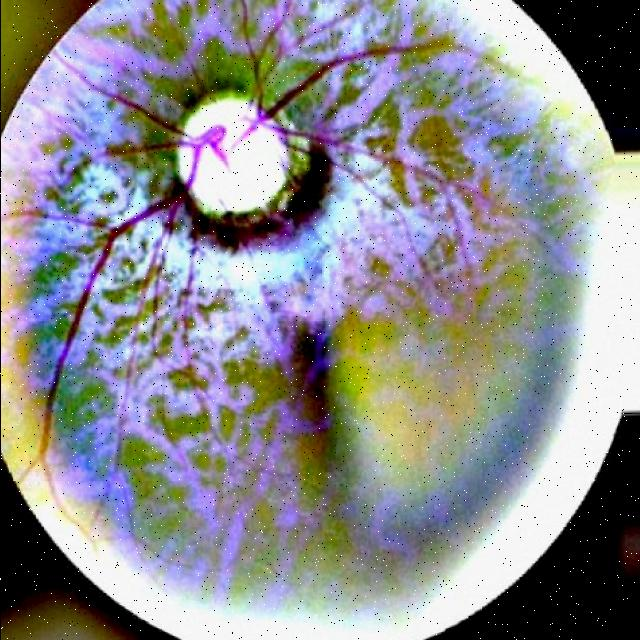Macula: (278, 316, 342, 444)
Nerves: (60, 74, 222, 233), (17, 238, 110, 512), (238, 39, 482, 143)
Optic Disk: (178, 80, 287, 216)
